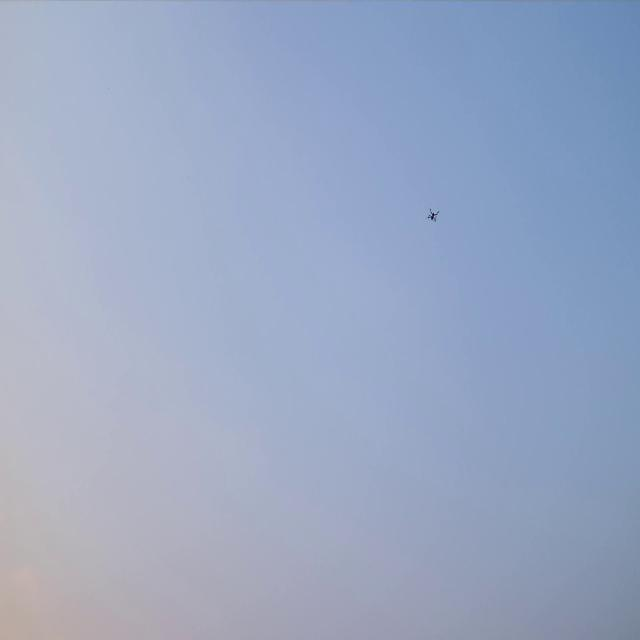UAV: (428, 211, 438, 220)
